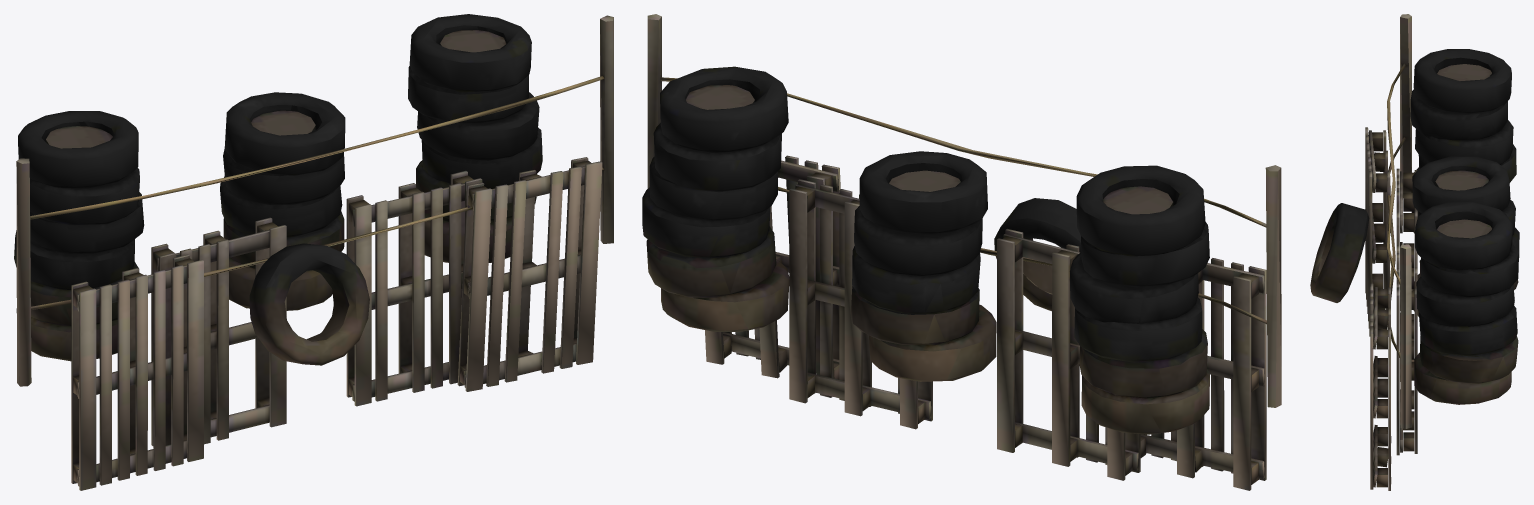
File: tyre_and_pallet_barricade.glb
3 views of the same model, side by side, from view 1: azimuth 30°, elevation 25°; view 2: azimuth 150°, elevation 25°; view 3: azimuth 270°, elevation 25° (orthographic). The views are drawn at different scales.
Visible parts, largest first — view 1: tyre_wall_mesh; view 2: tyre_wall_mesh; view 3: tyre_wall_mesh.
Part boxes in pixels (<box>): tyre_wall_mesh: <box>14,14,613,490</box>; tyre_wall_mesh: <box>642,14,1281,490</box>; tyre_wall_mesh: <box>1310,14,1519,490</box>.
Bounding box in the file's own units: 3.78 × 1.95 × 1.42.
Materials: 1 (1 with a texture image).
